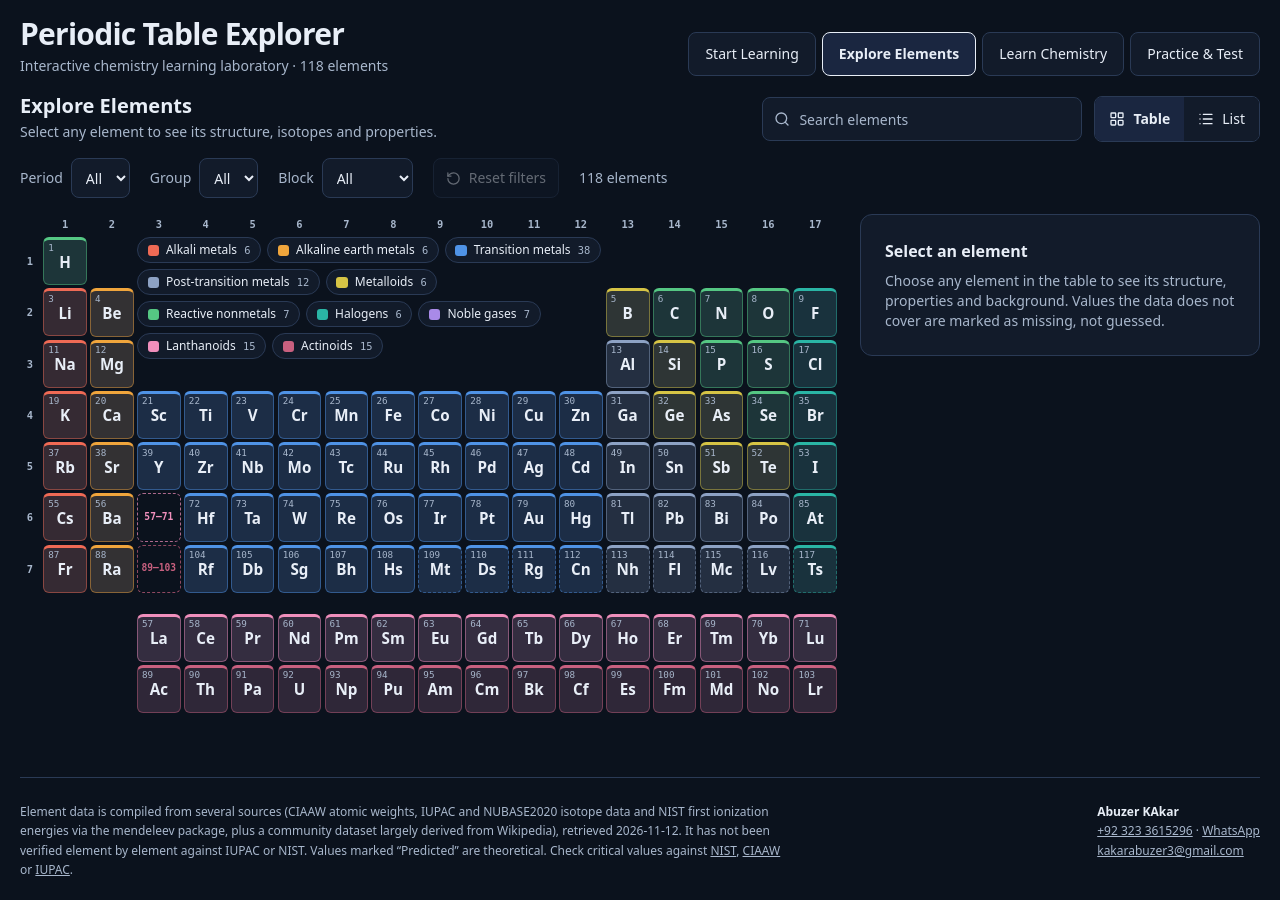
Test: periodic table view › says so when a value is missing instead of inventing one
Click the button "23 V" at {"x": 253, "y": 415}, box [231,391,274,439]
(page scrolled)
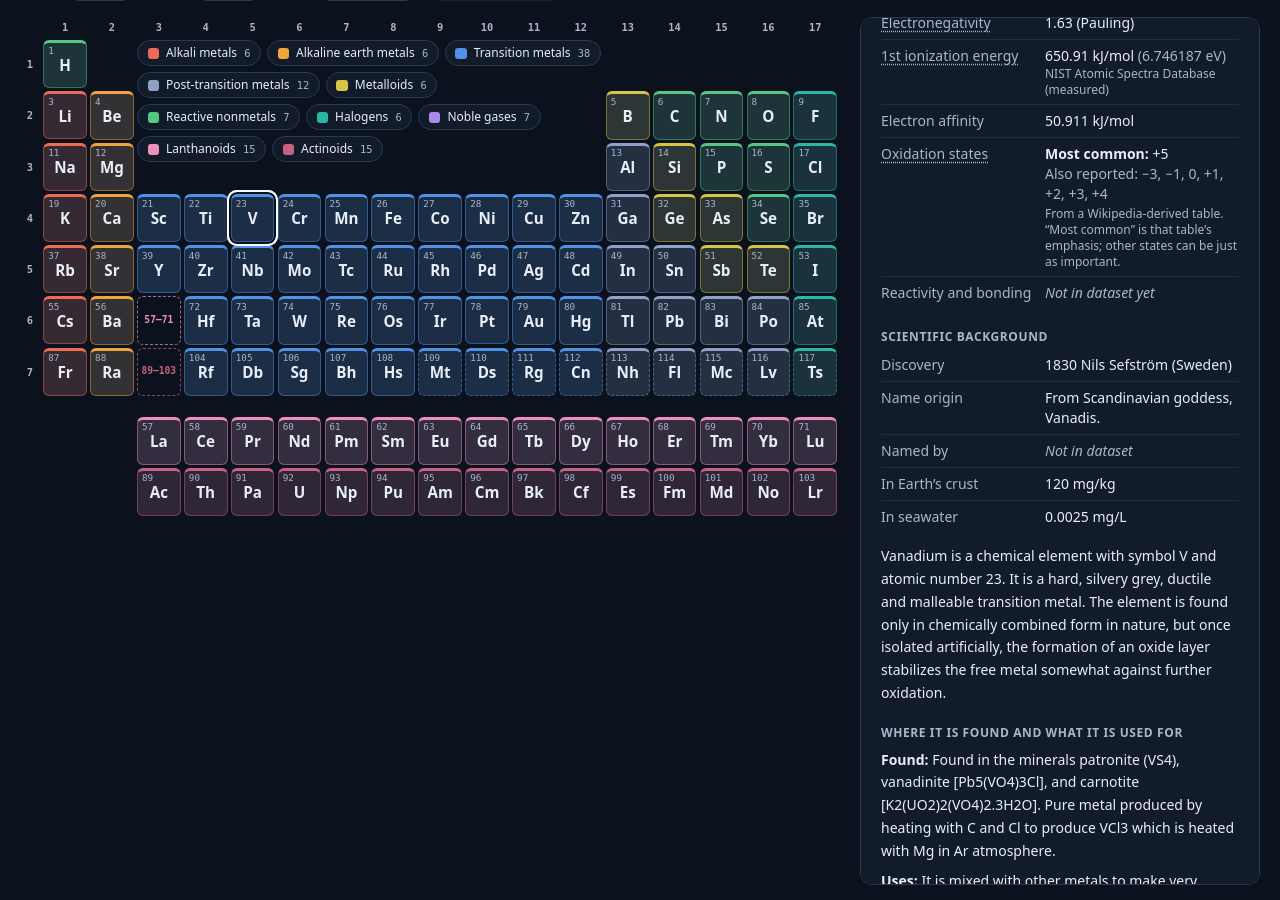
Result: the text "Not in dataset" is shown at [1045,441,1133,460]
